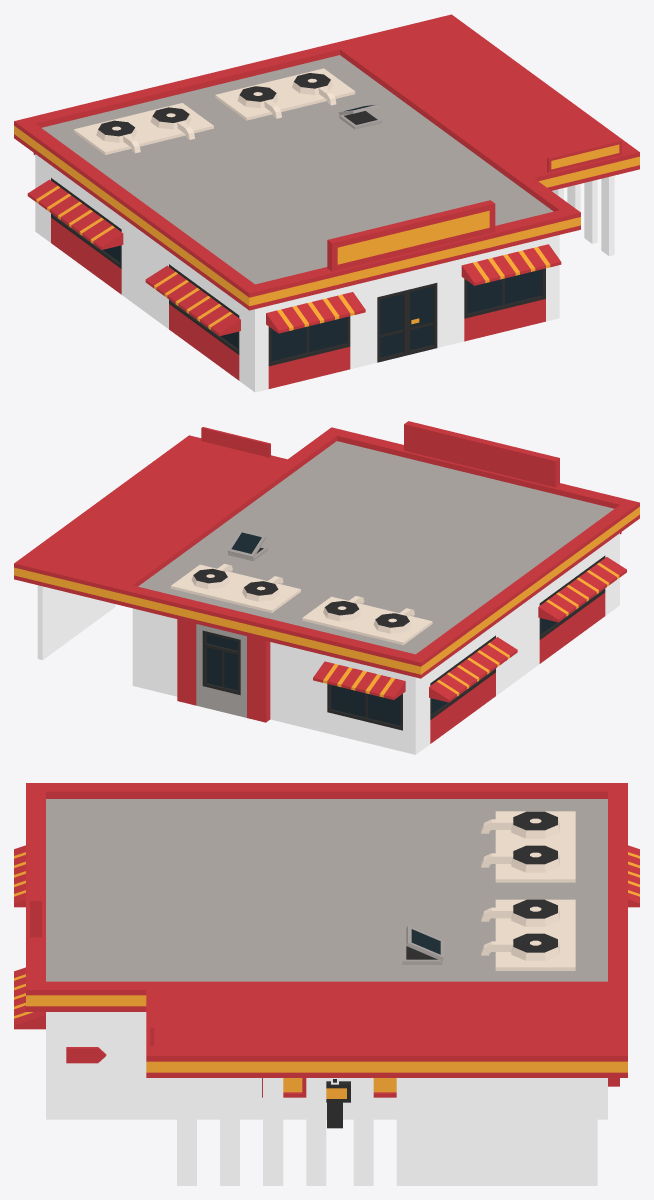
File: building-burger-joint.glb
The picture shows the model from 3 angles, top to bottom: view 1: azimuth 30°, elevation 25°; view 2: azimuth 150°, elevation 25°; view 3: azimuth 270°, elevation 25°; orthographic projection. The views are drawn at different scales.
Visible parts, largest first — view 1: building-burger-joint; view 2: building-burger-joint; view 3: building-burger-joint.
Boxes of the visible parts, x1,y1,x2,y2 form: building-burger-joint: [14, 14, 639, 392]; building-burger-joint: [14, 421, 639, 754]; building-burger-joint: [14, 783, 639, 1185].
Bounding box in the file's own units: 16.4 × 4.8 × 15.6.
1 material, 1 textured.
